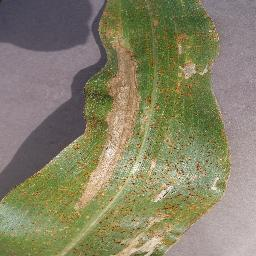Corn_Blight: (70, 6, 140, 225), (140, 102, 216, 243), (169, 18, 218, 98), (73, 227, 184, 256), (23, 166, 67, 205), (218, 95, 228, 208)
